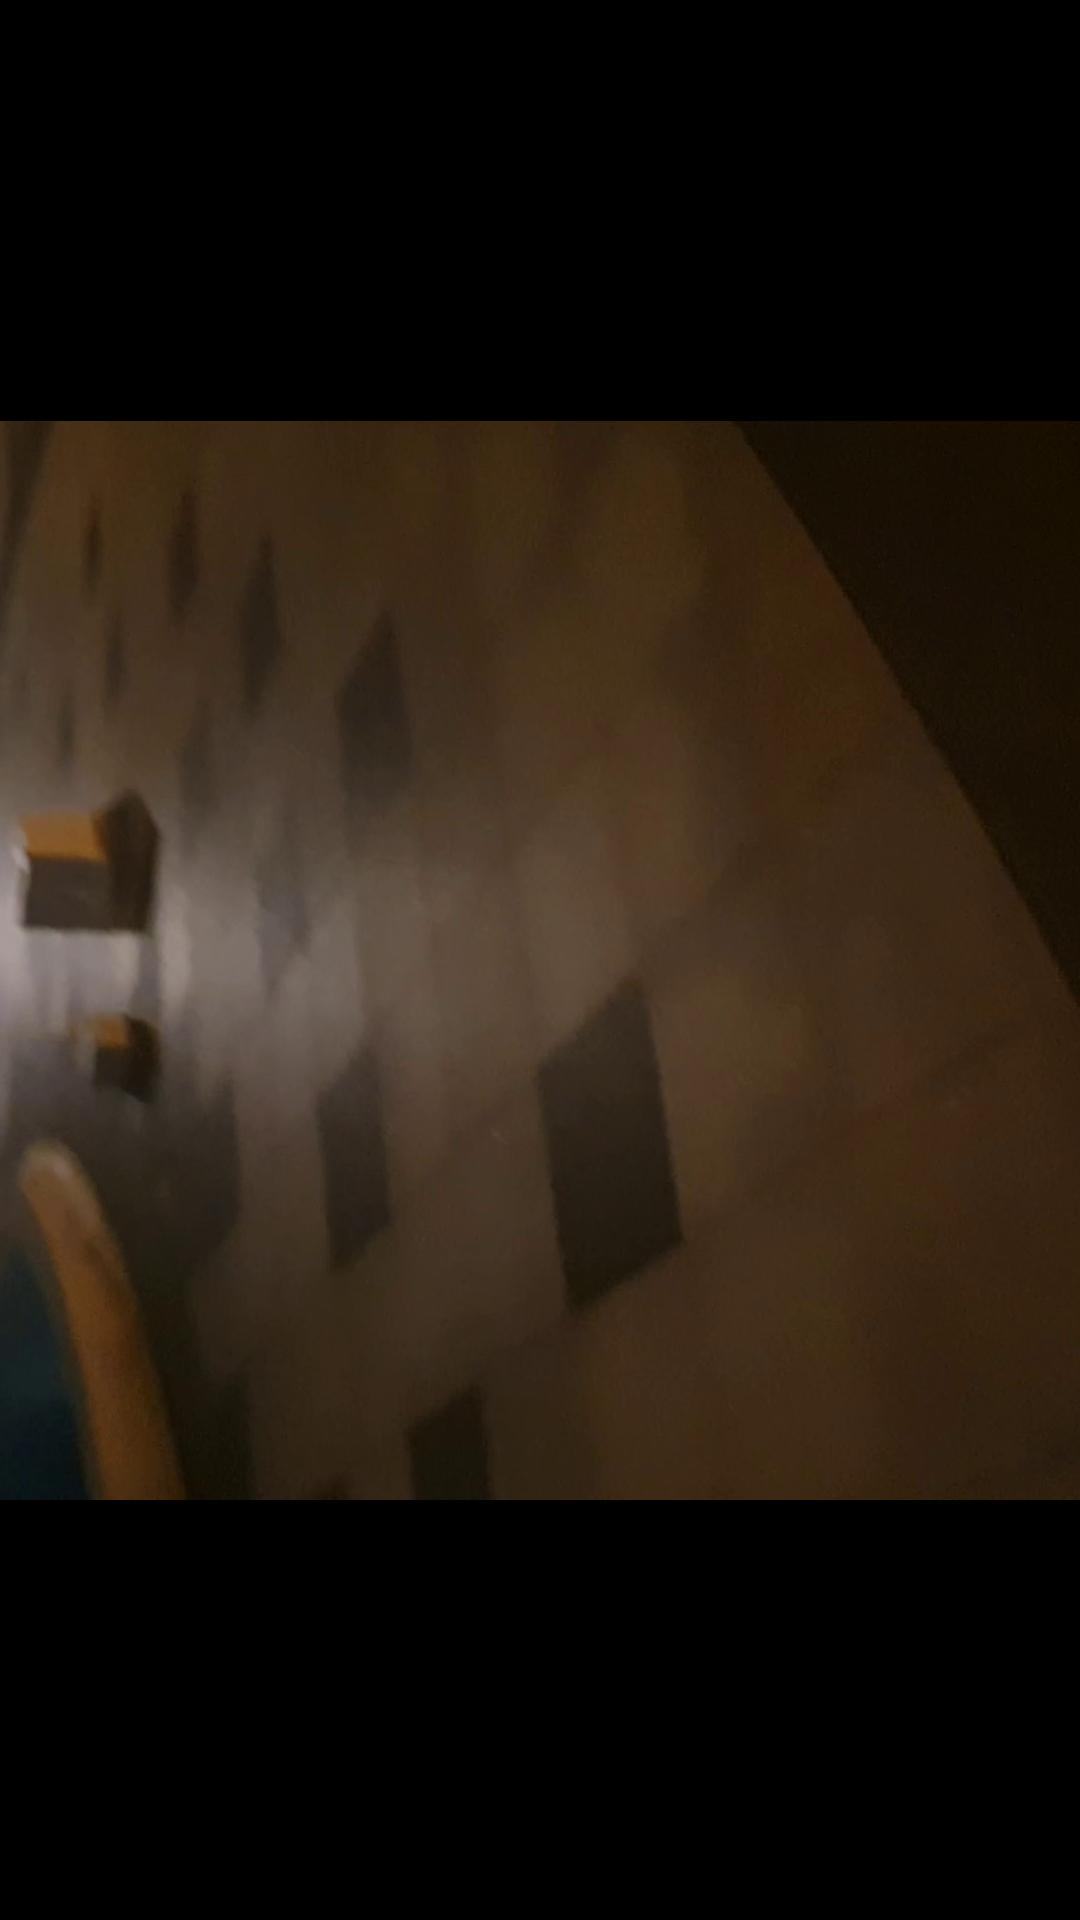Box: (15, 803, 131, 949), (58, 1007, 133, 1097)
